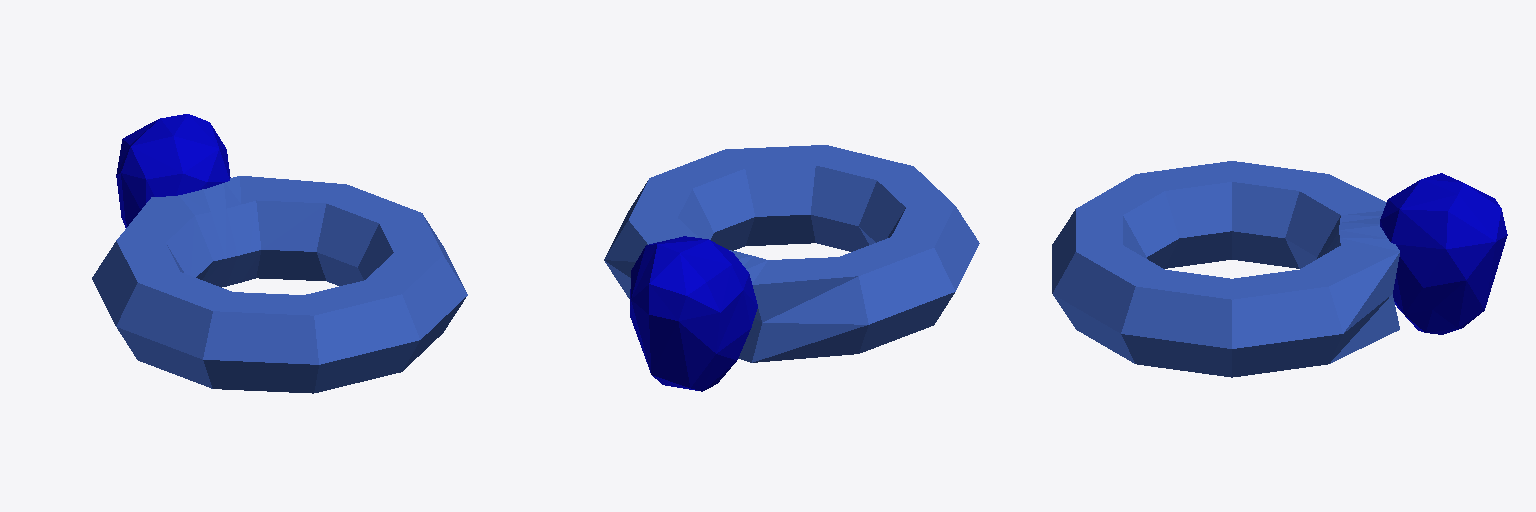
File: GroundItem.obj
The picture shows the model from 3 angles: view 1: azimuth 30°, elevation 25°; view 2: azimuth 150°, elevation 25°; view 3: azimuth 270°, elevation 25°; orthographic projection.
Visible parts, largest first — view 1: AquamarineRingBand; view 2: AquamarineRingBand; view 3: AquamarineRingBand.
Part boxes in pixels (x1,y1,x2,y2): AquamarineRingBand: (92, 114, 467, 393); AquamarineRingBand: (604, 145, 979, 391); AquamarineRingBand: (1052, 161, 1507, 377).
Size of the model in its own units: 0.1318 by 0.0553 by 0.1586.